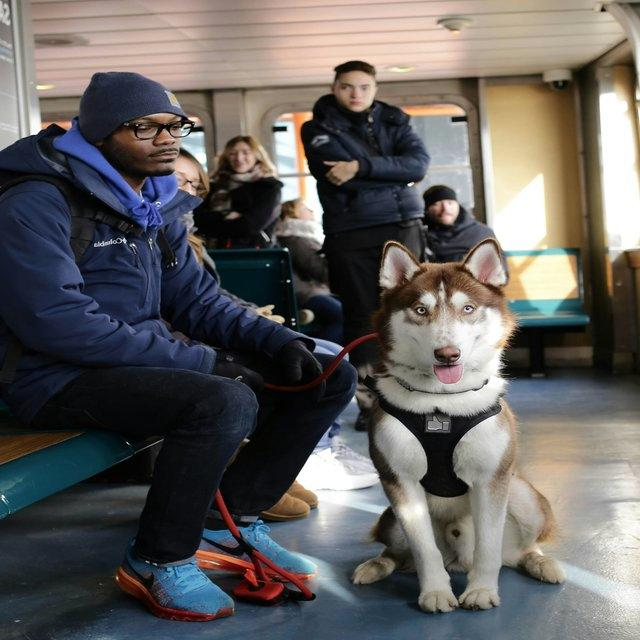husky: (351, 236, 567, 613)
